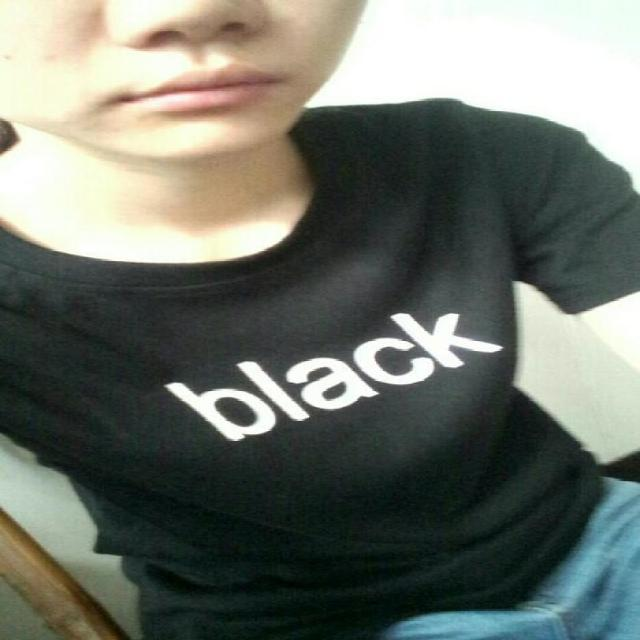short sleeve top: (4, 113, 633, 638)
